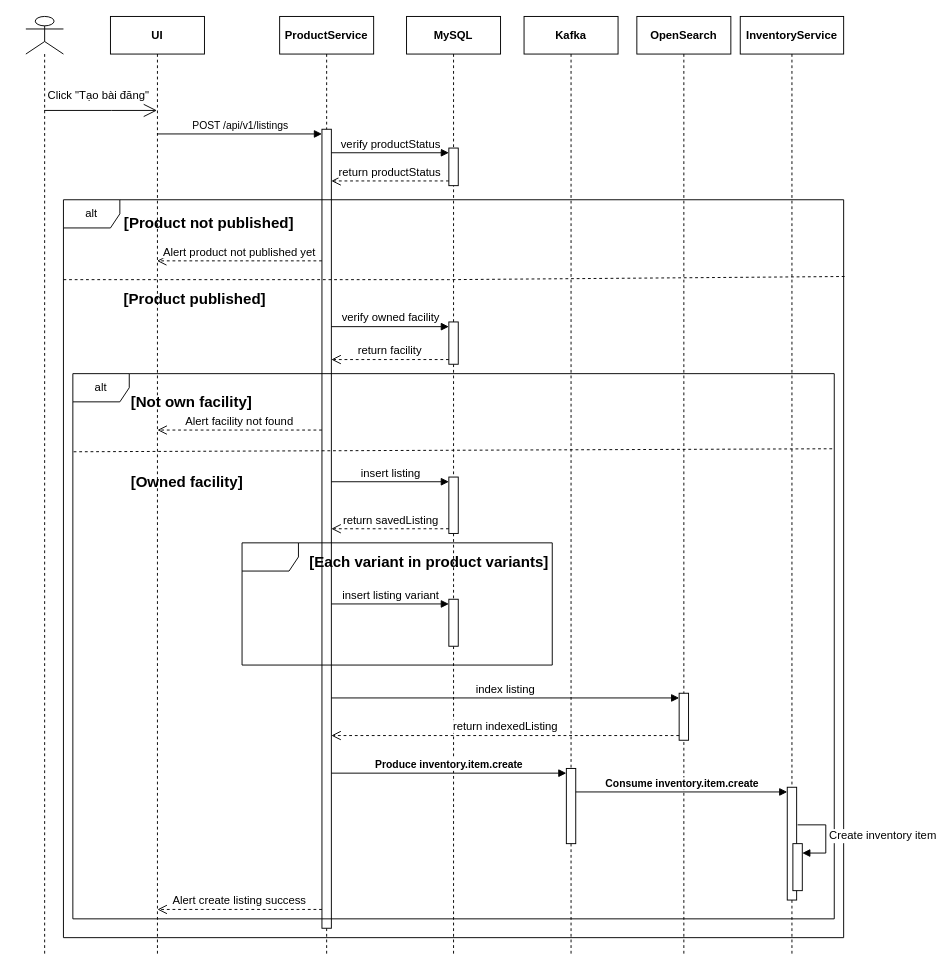
The diagram is 952 pixels wide and 973 high, and some of its shapes have lost their labels. Here are the shapes that lost their labels. From the top down, the box of each, then its label:
(25, 16, 63, 956): User
(241, 542, 552, 665): loop
